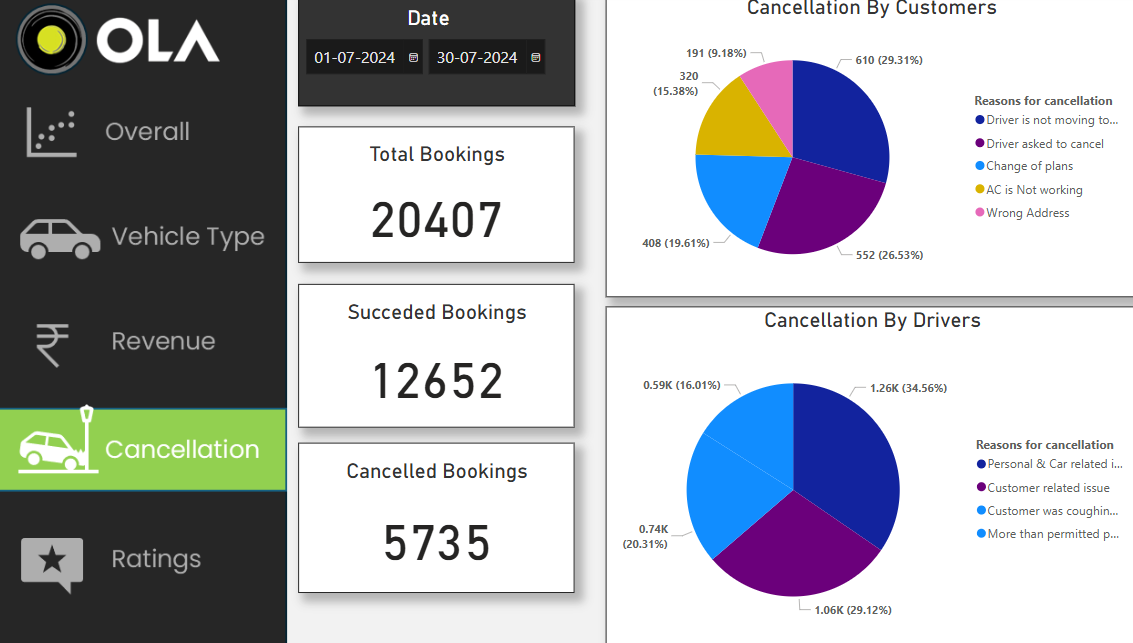

This screenshot's page, from the dashboard's own definition file:
{"tool":"powerbi","page":{"name":"cancellation","canvas":[1280,720],"ordinal":3},"visuals":[{"type":"actionButton","box":[0,109.2,322.7,92],"z":0},{"type":"actionButton","box":[0,225.8,322.7,92],"z":1000},{"type":"actionButton","box":[0,342.3,322.7,92],"z":2000},{"type":"actionButton","box":[0,575.5,322.7,92],"z":3000},{"type":"pieChart","title":"Cancellation By Customers","fields":{"Category":["Booking csv.Canceled_Rides_by_Customer"],"Y":["CountNonNull(Booking csv.Canceled_Rides_by_Customer)"]},"box":[674.3,0,582.9,332.9],"z":4000},{"type":"pieChart","title":"Cancellation By Drivers","fields":{"Category":["Booking csv.Canceled_Rides_by_Driver"],"Y":["CountNonNull(Booking csv.Canceled_Rides_by_Driver)"]},"box":[674.3,342.9,584.3,377.1],"z":5000},{"type":"card","title":"Total Bookings","fields":{"Values":["Count(Booking csv.Booking_ID)"]},"box":[336.2,145.5,303.3,149.6],"z":6000},{"type":"card","title":"Succeded Bookings","fields":{"Values":["Count(Booking csv.Booking_ID)"]},"box":[336.2,318.4,303.3,157.8],"z":7000},{"type":"card","title":"Cancelled Bookings","fields":{"Values":["Count(Booking csv.Booking_ID)"]},"box":[336.2,492.6,303.3,164.7],"z":8000},{"type":"slicer","title":"Date","fields":{"Values":["Booking csv.Date"]},"box":[335.7,0,304.3,122.9],"z":10000}]}

Visuals, with their boxes on the page's 1280x720 design canvas (x1, y1, x2, y2). These are canvas units, not pixel positions in the 1133x643 screenshot, which may show the page scaled, cropped or inside an application window:
actionButton: (0,109,323,201)
actionButton: (0,226,323,318)
actionButton: (0,342,323,434)
actionButton: (0,576,323,668)
"Cancellation By Customers" pieChart: (674,0,1257,333)
"Cancellation By Drivers" pieChart: (674,343,1259,720)
"Total Bookings" card: (336,146,640,295)
"Succeded Bookings" card: (336,318,640,476)
"Cancelled Bookings" card: (336,493,640,657)
"Date" slicer: (336,0,640,123)
